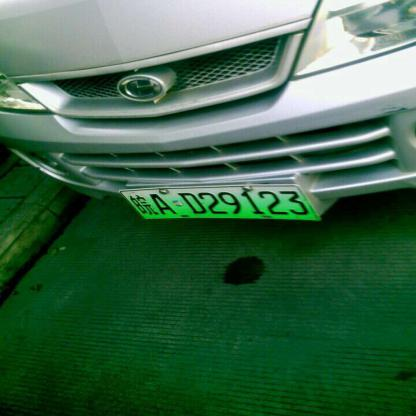lp: (121, 185, 316, 219)
